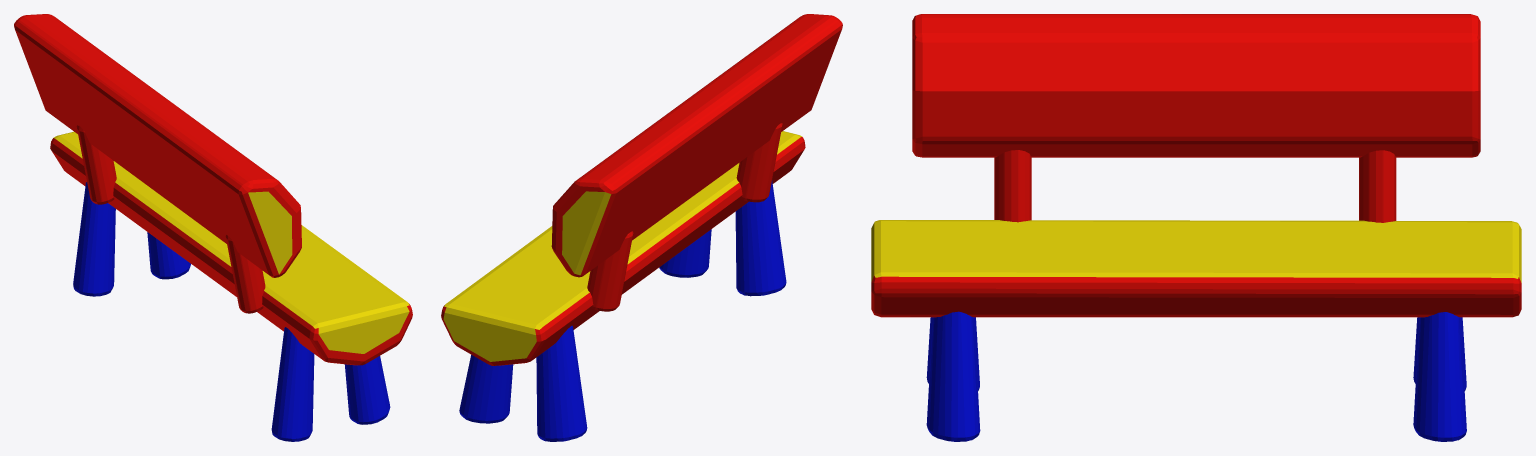
Rendered from banco_madeira.fbx.
3 renders of one model, left to right at view 1: azimuth 30°, elevation 25°; view 2: azimuth 150°, elevation 25°; view 3: azimuth 270°, elevation 25°, orthographic. The views are drawn at different scales.
Visible parts, largest first — view 1: banco_madeira; view 2: banco_madeira; view 3: banco_madeira.
Boxes of the visible parts, box(x1,y1,x2,y2) form: banco_madeira: box(14, 14, 412, 441); banco_madeira: box(441, 14, 842, 441); banco_madeira: box(871, 14, 1521, 441).
Bounding box in the file's own units: 0.6464 × 1.05 × 1.8.
